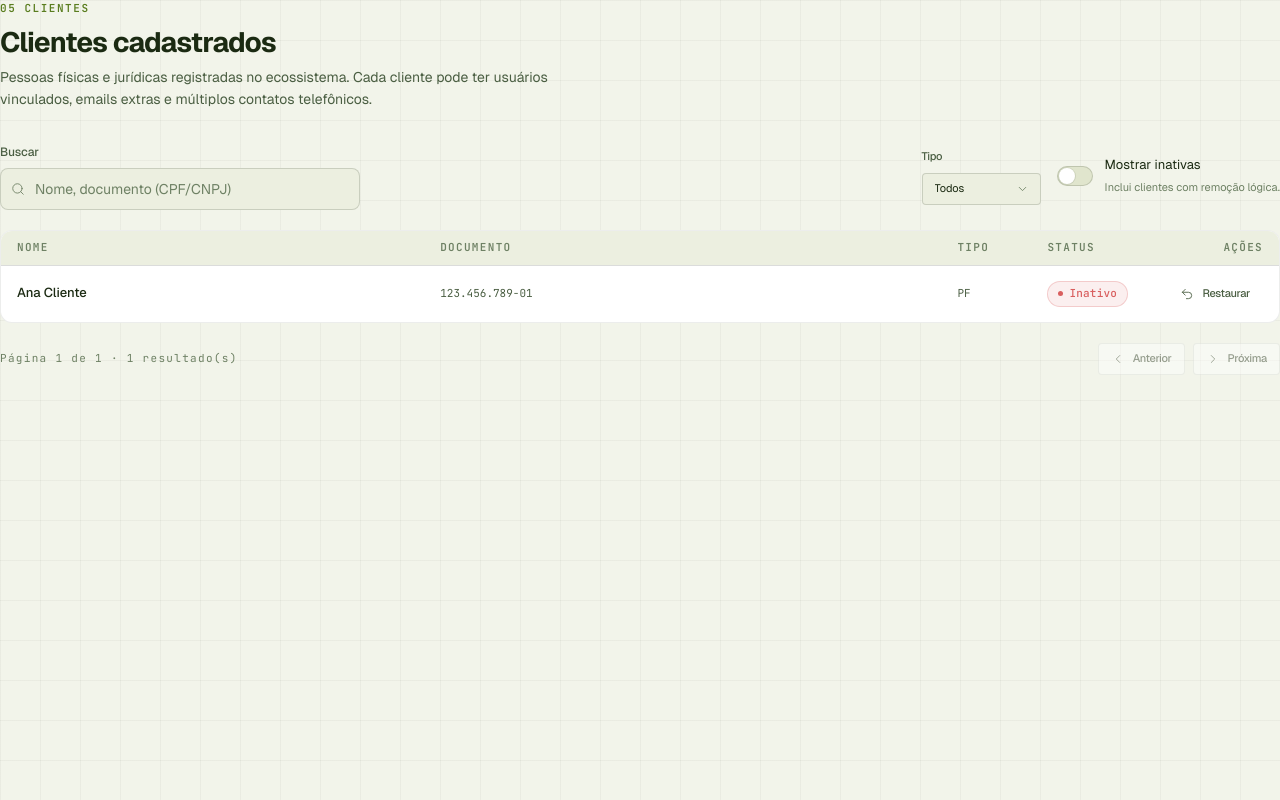
Test: ClientsListShellPage — restaurar (Issue #76) › tratamento de erros do backend › mapeia 404 (cliente não encontrado ou já ativo) fecha modal, exibe toast e dispara refetch
The width and height of the screenshot is (1280, 800).
Click the button "Restaurar" at (1215, 294), box [1167,278,1263,310]
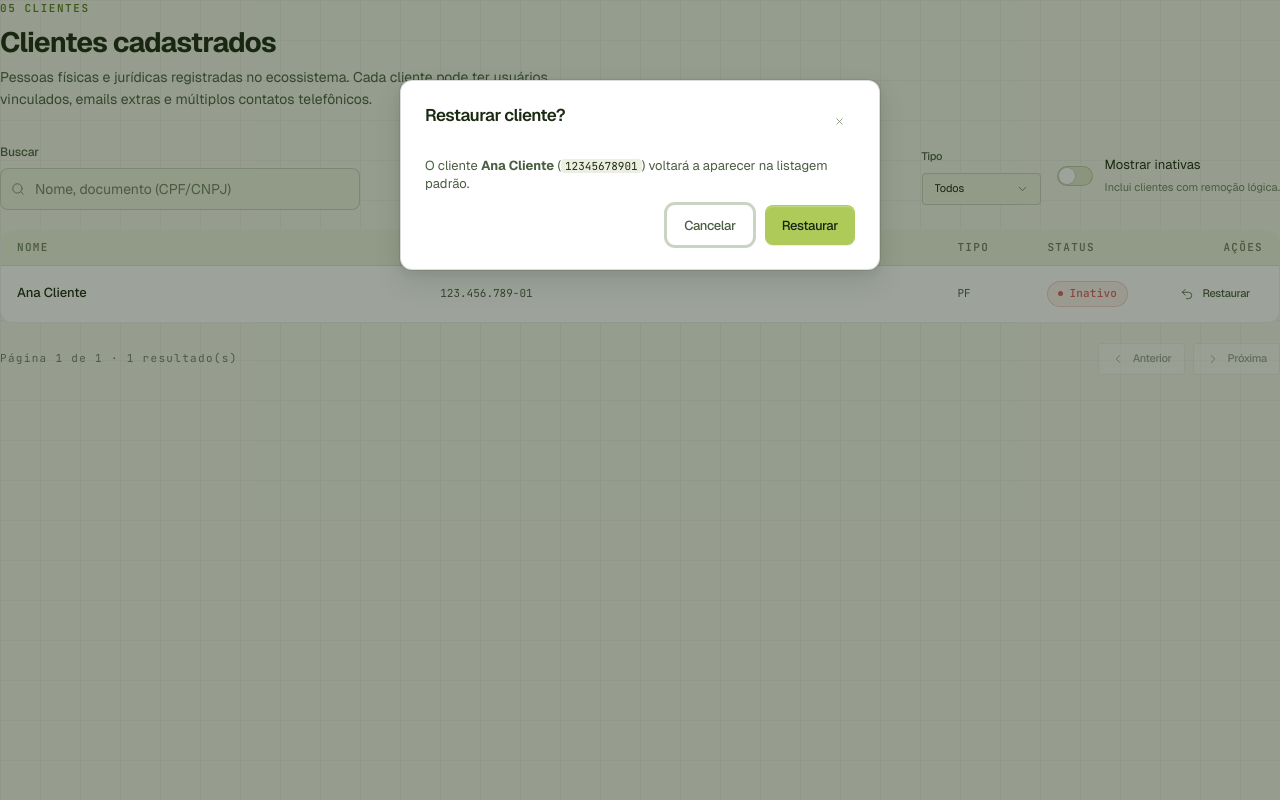
Click the button with test id "restore-client-confirm" at (810, 225), box [765,205,855,245]
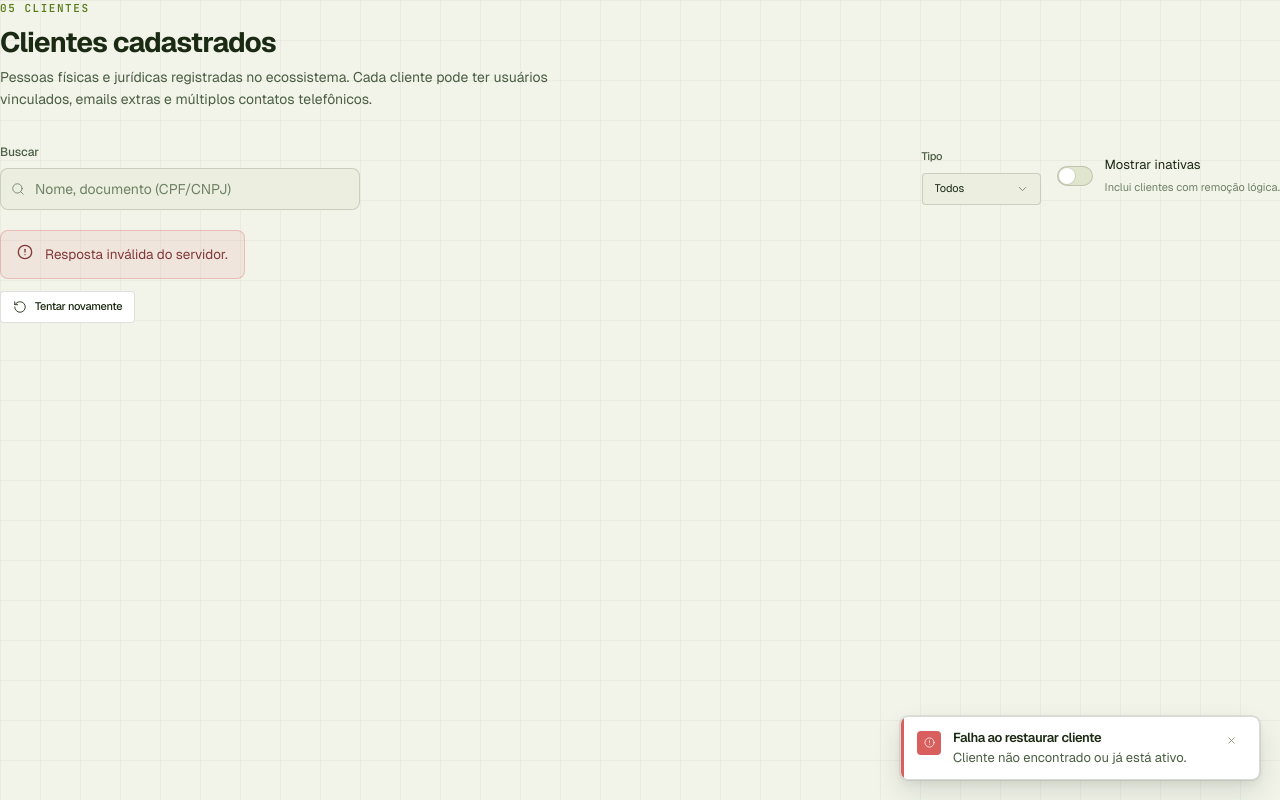
Expected: the dialog is gone
